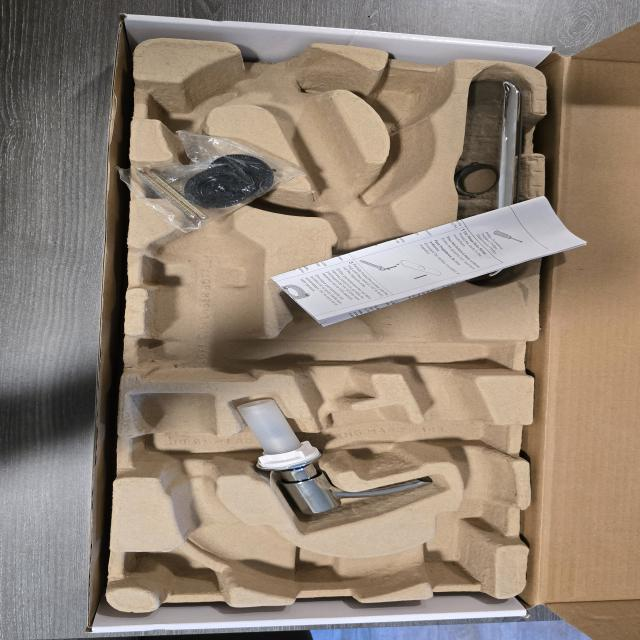1m: (133, 41, 513, 600)
2: (233, 400, 430, 517)
3m: (143, 204, 262, 381)
4o: (450, 81, 525, 281)
5m: (370, 77, 445, 129)
6m: (143, 70, 249, 139)
7: (113, 129, 305, 235)
8: (269, 195, 591, 326)
